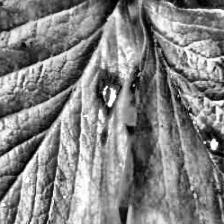Leaf Spot: (0, 0, 139, 224), (118, 0, 224, 224)
